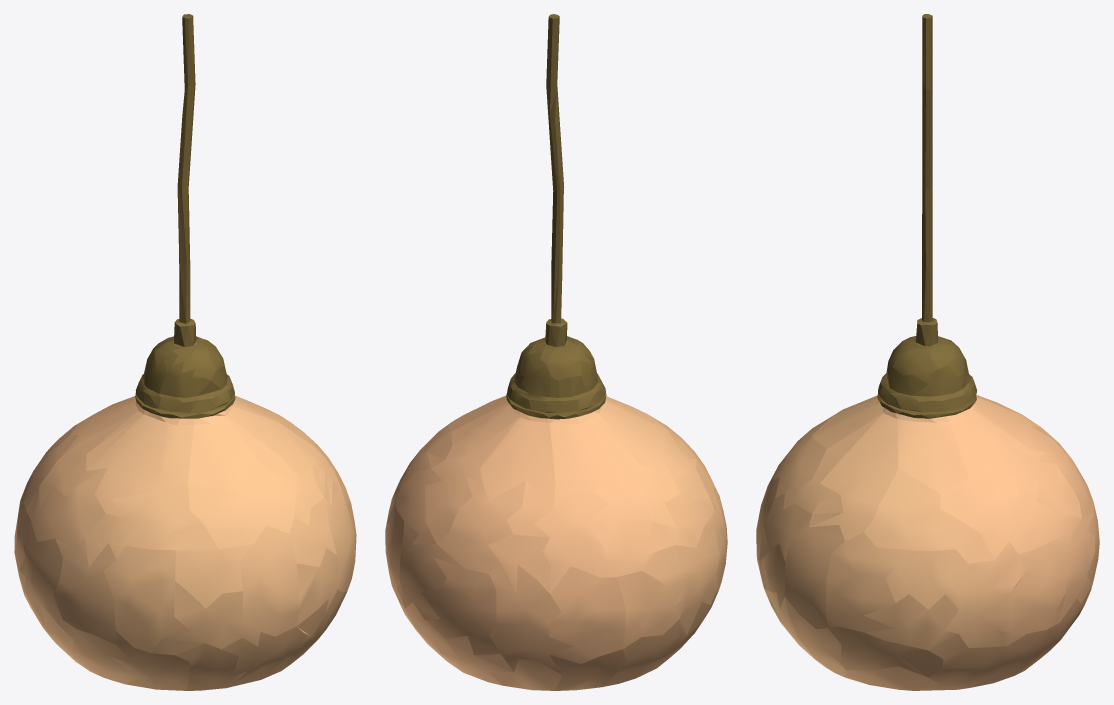
The model's file is pendant_lamp.glb.
3 views of the same model, side by side, from view 1: azimuth 30°, elevation 25°; view 2: azimuth 150°, elevation 25°; view 3: azimuth 270°, elevation 25° (orthographic).
Bounding box in the file's own units: 0.9446 × 1.9 × 0.9452.
Materials: 1 (1 with a texture image).
